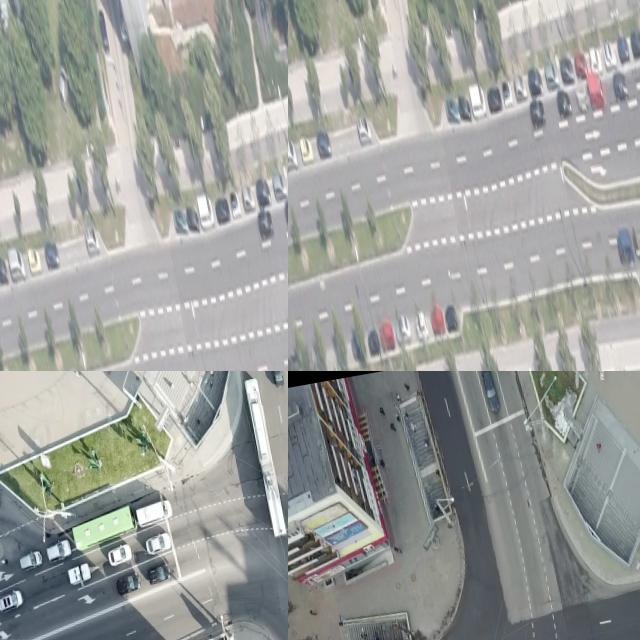UAI: (476, 371, 502, 417), (55, 62, 75, 112), (7, 244, 27, 283), (587, 74, 608, 110), (45, 537, 73, 564), (615, 227, 635, 264), (0, 586, 26, 613), (145, 531, 173, 556), (197, 193, 216, 229), (469, 82, 488, 118), (528, 95, 548, 129), (114, 571, 142, 595), (96, 9, 110, 54), (106, 543, 133, 566), (256, 206, 275, 238), (393, 313, 412, 345), (254, 176, 272, 208), (544, 58, 561, 91), (68, 562, 92, 585), (147, 562, 172, 584), (18, 549, 43, 571), (558, 55, 575, 87), (612, 71, 630, 101), (555, 88, 573, 118), (378, 321, 396, 351), (526, 66, 544, 96), (84, 225, 101, 255), (271, 170, 288, 200), (356, 114, 373, 144), (44, 240, 61, 269), (316, 130, 333, 159), (486, 84, 503, 113), (365, 326, 381, 356), (299, 134, 315, 164), (573, 50, 589, 80), (172, 207, 189, 234), (444, 97, 461, 124), (414, 309, 429, 339), (588, 44, 603, 74), (27, 246, 43, 274), (443, 303, 459, 331), (602, 41, 618, 69), (430, 307, 446, 334), (185, 204, 200, 232), (241, 185, 256, 213), (457, 93, 472, 121), (215, 198, 231, 224), (228, 189, 242, 217), (617, 35, 631, 63), (288, 133, 298, 170), (576, 85, 589, 112), (500, 79, 513, 106), (513, 76, 527, 101), (629, 30, 640, 57), (267, 371, 285, 387), (0, 254, 9, 285), (631, 231, 640, 259), (282, 198, 288, 228)
car: (245, 376, 288, 536), (70, 504, 138, 550)
harvester: (135, 498, 175, 527)
